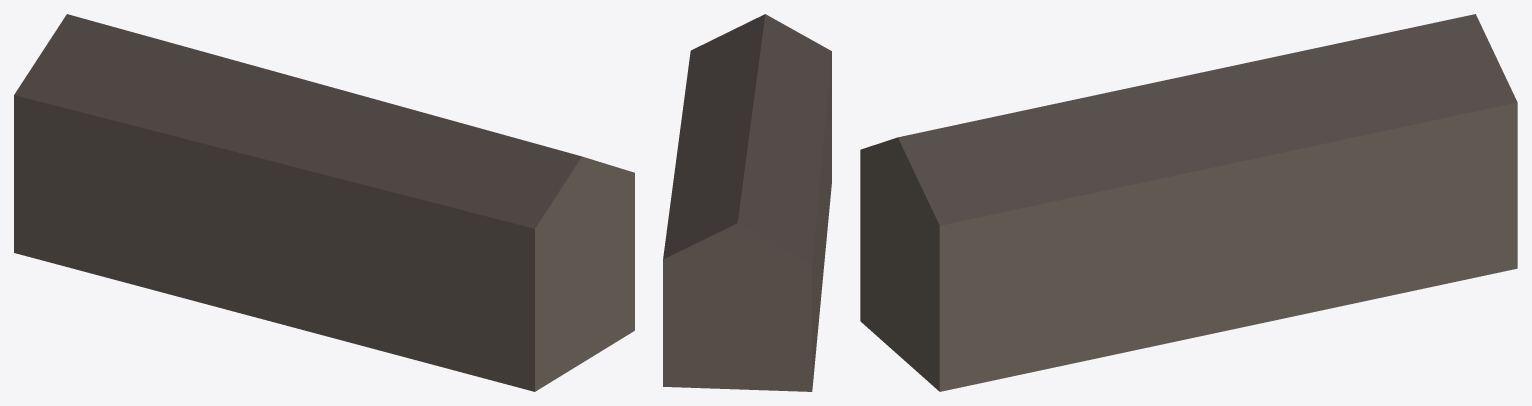
3 views of the same model, side by side, from view 1: azimuth 30°, elevation 25°; view 2: azimuth 150°, elevation 25°; view 3: azimuth 270°, elevation 25° (orthographic). The views are drawn at different scales.
Visible parts, largest first — view 1: HP-w1197053246; view 2: HP-w1197053246; view 3: HP-w1197053246.
Part boxes in pixels (box(x1,y1,x2,y2)): HP-w1197053246: box(14, 14, 634, 391); HP-w1197053246: box(663, 14, 831, 391); HP-w1197053246: box(860, 14, 1517, 391).
Bounding box in the file's own units: 23.01 × 11.77 × 32.28.
